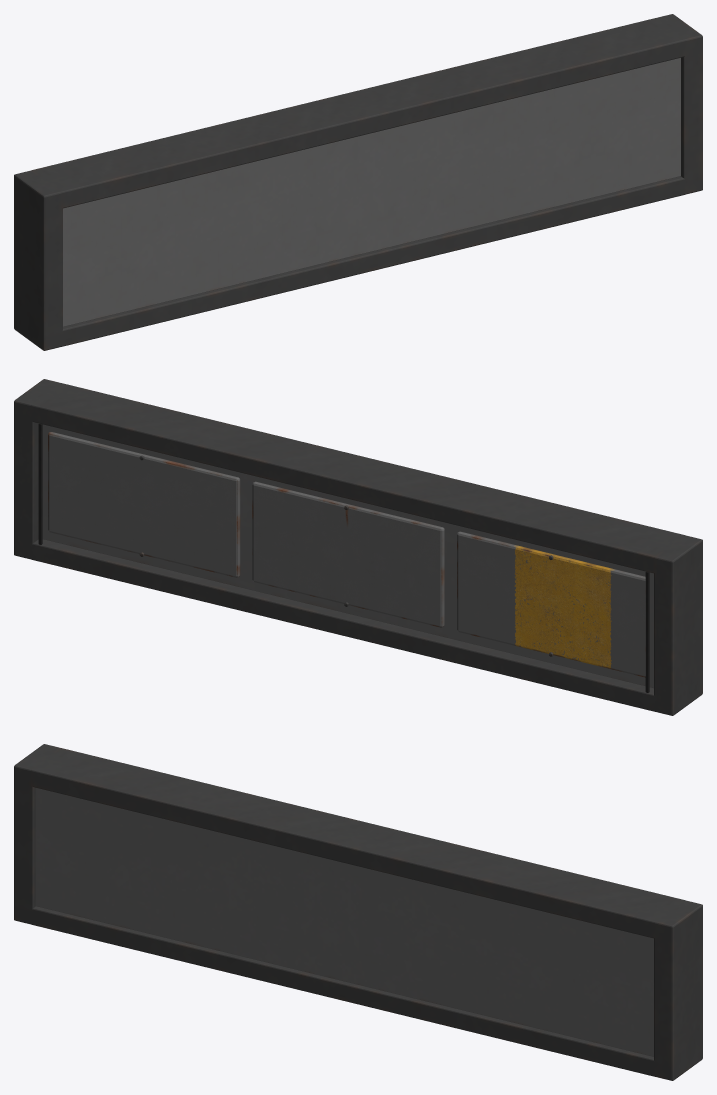
Rendered from SM_GarageConcrete_UpperPanel02.fbx.
The picture shows the model from 3 angles, top to bottom: view 1: azimuth 30°, elevation 25°; view 2: azimuth 150°, elevation 25°; view 3: azimuth 330°, elevation 25°; orthographic projection.
Visible parts, largest first — view 1: SM_GarageConcrete_UpperPanel02; view 2: SM_GarageConcrete_UpperPanel02; view 3: SM_GarageConcrete_UpperPanel02.
Part boxes in pixels (x1,y1,x2,y2): SM_GarageConcrete_UpperPanel02: (14,14,702,350); SM_GarageConcrete_UpperPanel02: (14,379,702,715); SM_GarageConcrete_UpperPanel02: (14,744,702,1080).
Bounding box in the file's own units: 200 × 16 × 45.
